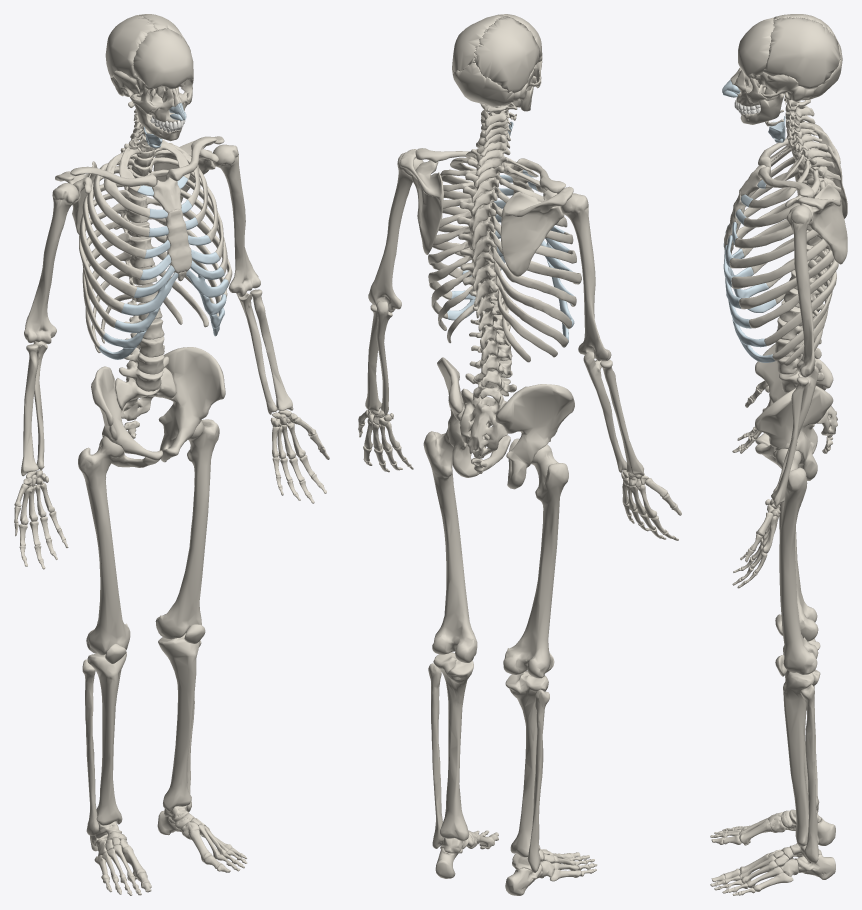
Rendered from esqueleto.glb.
3 renders of one model, left to right at view 1: azimuth 30°, elevation 25°; view 2: azimuth 150°, elevation 25°; view 3: azimuth 270°, elevation 25°, orthographic. The views are drawn at different scales.
Parts seen in each view (by area): view 1: Femur.r, Femur.l, Hip bone.l, Tibia.l, Frontal bone, Tibia.r, Humerus.r, Humerus.l, Hip bone.r, Parietal bone.r, Sacrum, Fibula.r (+18 smaller); view 2: Femur.r, Femur.l, Hip bone.r, Scapula.r, Parietal bone.r, Tibia.l, Tibia.r, Humerus.r, Humerus.l, Hip bone.l, Scapula.l, Sacrum (+15 smaller); view 3: Femur.l, Parietal bone.l, Tibia.l, Hip bone.l, Humerus.l, Scapula.l, Fibula.l, Frontal bone, Hip bone.r, Radius.l, Femur.r, Seventh rib.l (+28 smaller).
Part boxes in pixels (x1,y1,x2,y2): Femur.r: (78, 436, 130, 655); Femur.l: (155, 419, 219, 639); Hip bone.l: (158, 347, 225, 462); Tibia.l: (158, 633, 200, 811); Frontal bone: (133, 28, 193, 91); Tibia.r: (87, 652, 126, 825); Humerus.r: (24, 183, 78, 344); Humerus.l: (212, 144, 260, 296); Hip bone.r: (91, 366, 162, 467); Parietal bone.r: (105, 15, 157, 79); Sacrum: (115, 367, 175, 420); Fibula.r: (82, 659, 99, 835); Femur.r: (503, 444, 568, 678); Femur.l: (423, 428, 477, 662); Hip bone.r: (495, 384, 574, 489); Scapula.r: (501, 186, 573, 276); Parietal bone.r: (474, 16, 539, 93); Tibia.l: (433, 652, 473, 840); Tibia.r: (505, 671, 548, 857); Humerus.r: (561, 193, 611, 361); Humerus.l: (368, 152, 423, 312); Hip bone.l: (437, 357, 510, 477); Scapula.l: (400, 149, 443, 254); Sacrum: (459, 388, 507, 458); Femur.l: (775, 448, 818, 674); Parietal bone.l: (763, 17, 840, 89); Tibia.l: (783, 669, 820, 846); Hip bone.l: (755, 386, 833, 480); Humerus.l: (786, 205, 815, 377); Scapula.l: (785, 183, 847, 264); Fibula.l: (800, 684, 818, 863); Frontal bone: (738, 17, 774, 78); Hip bone.r: (755, 343, 833, 453); Radius.l: (771, 377, 808, 506); Femur.r: (779, 470, 818, 641); Seventh rib.l: (739, 249, 834, 309).
Bounding box in the file's own units: 0.6905 × 1.75 × 0.258.
